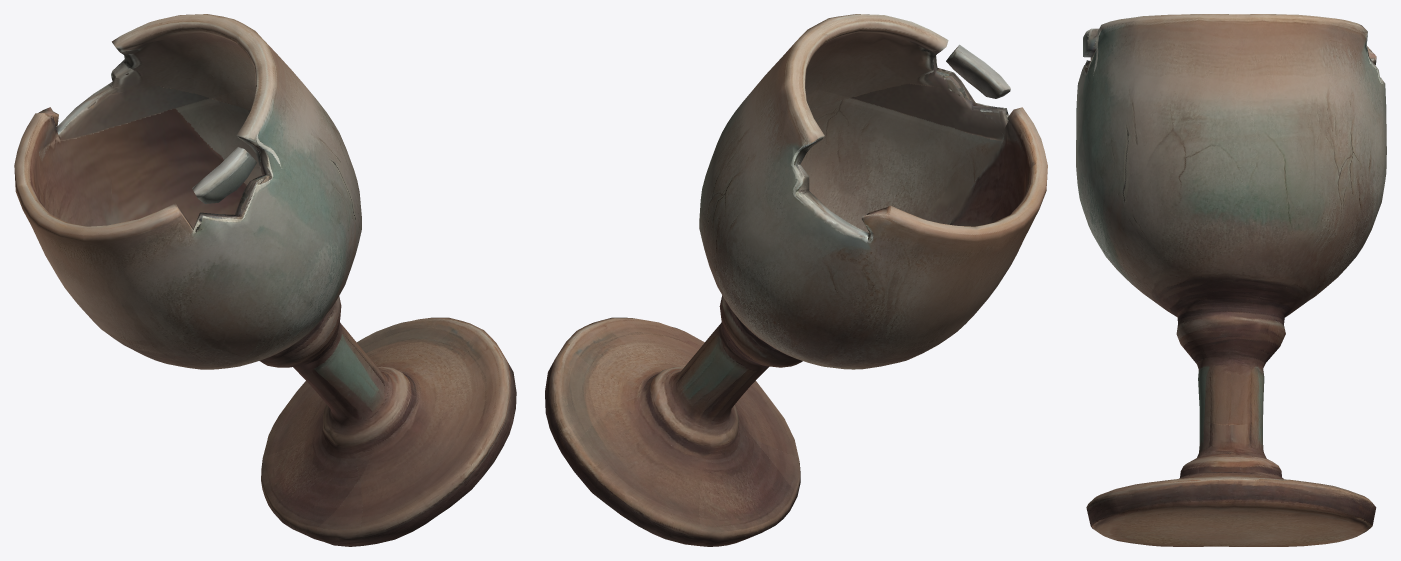
File: Prop_Goblet_Broken.fbx
The picture shows the model from 3 angles, left to right: view 1: azimuth 30°, elevation 25°; view 2: azimuth 150°, elevation 25°; view 3: azimuth 270°, elevation 25°; orthographic projection.
Visible parts, largest first — view 1: texture_mapping; view 2: texture_mapping; view 3: texture_mapping.
Boxes of the visible parts, bbox=[...] form: texture_mapping: bbox=[14, 14, 516, 546]; texture_mapping: bbox=[545, 14, 1047, 546]; texture_mapping: bbox=[1076, 14, 1386, 546].
Size of the model in its own units: 0.9261 by 0.5596 by 1.
Materials: 1 (1 with a texture image).
